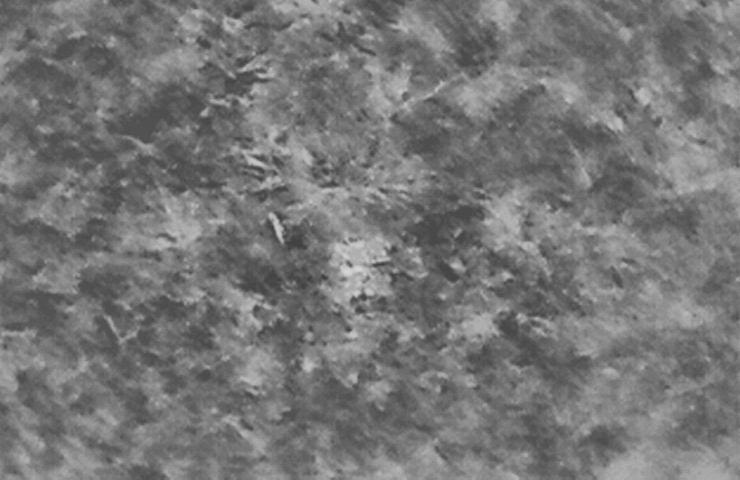landmines: (331, 236, 392, 299)
